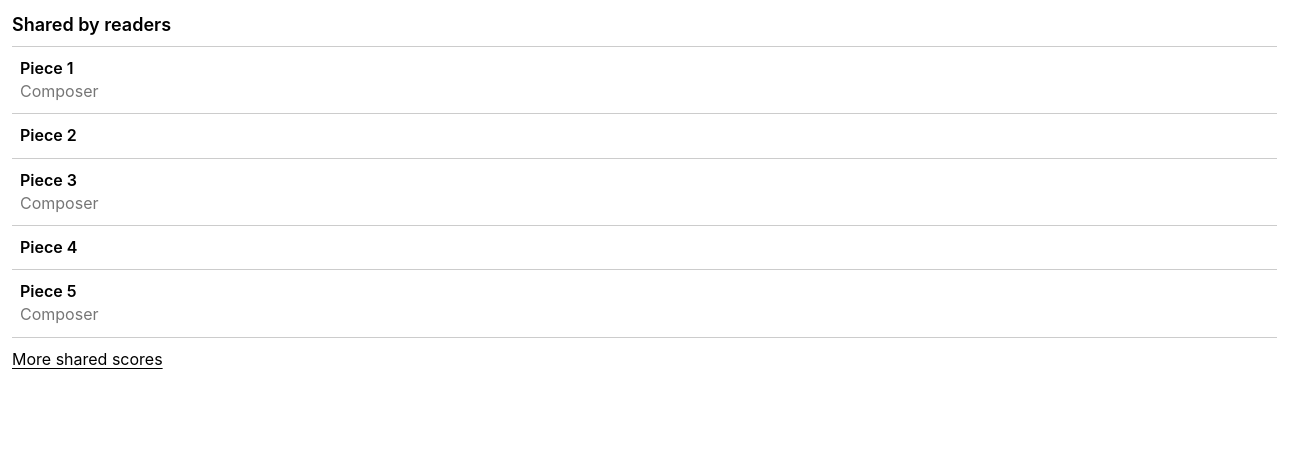
Test: the shelf shows the five newest, opens one, and asks for 20 more only when five came back
Expected: the heading "Shared by readers" is shown, [12,12,171,38]
Click the button with aria-label "Open shared Piece 2" at point(48, 135), box [12,114,1277,159]
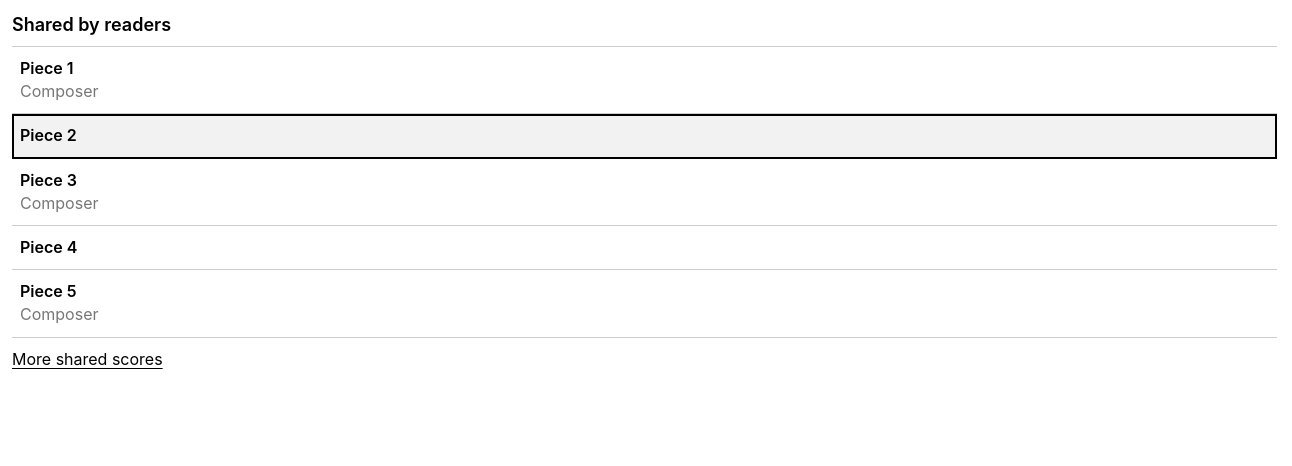
Click the button "More shared scores" at point(87, 360), box [12,338,163,382]
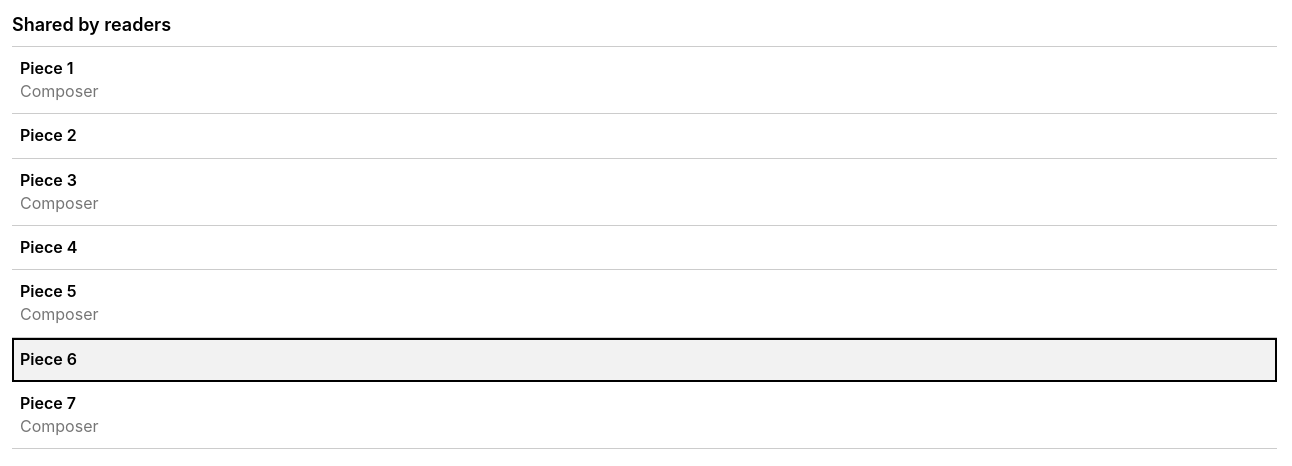
Expected: the number of buttons named "Open shared Piece" is 7
Expected: the button "More shared scores" is gone
